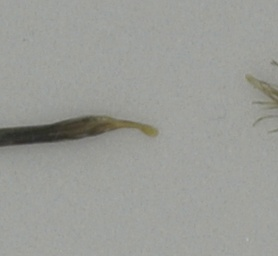เมล้ดปลายพู่กัน: (1, 112, 161, 151)
